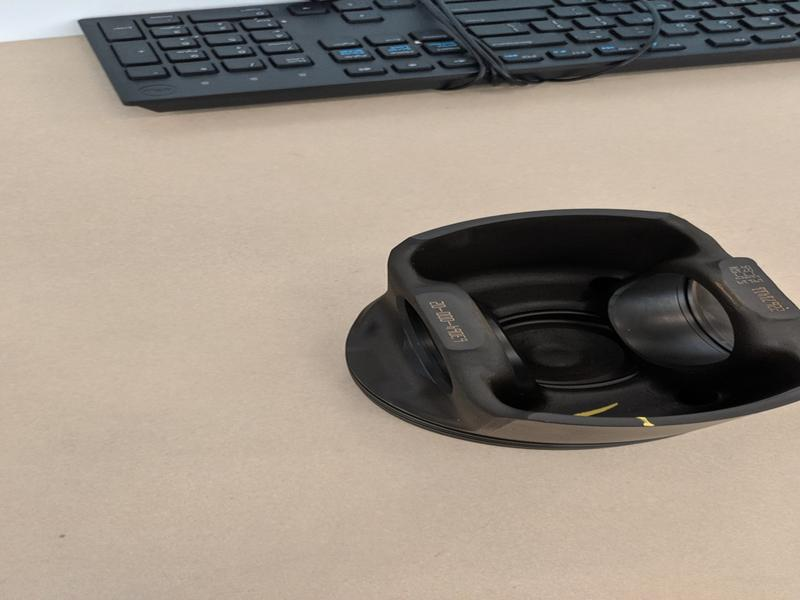piston: (339, 184, 800, 461)
